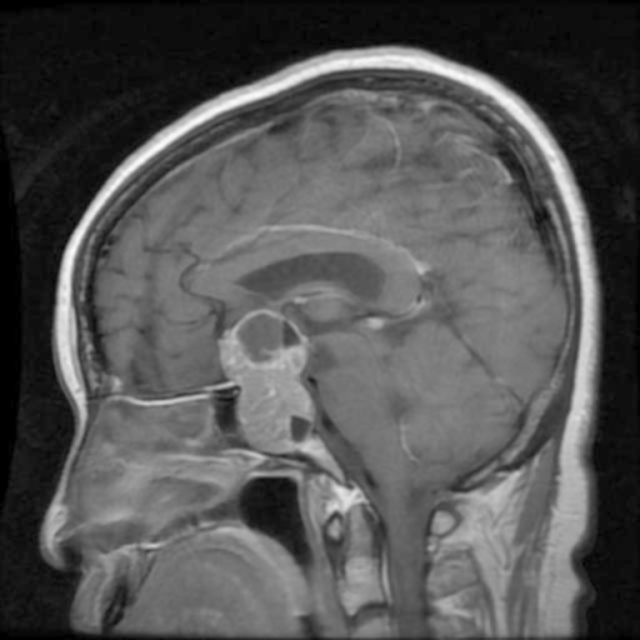no tumor: (218, 301, 326, 449)
